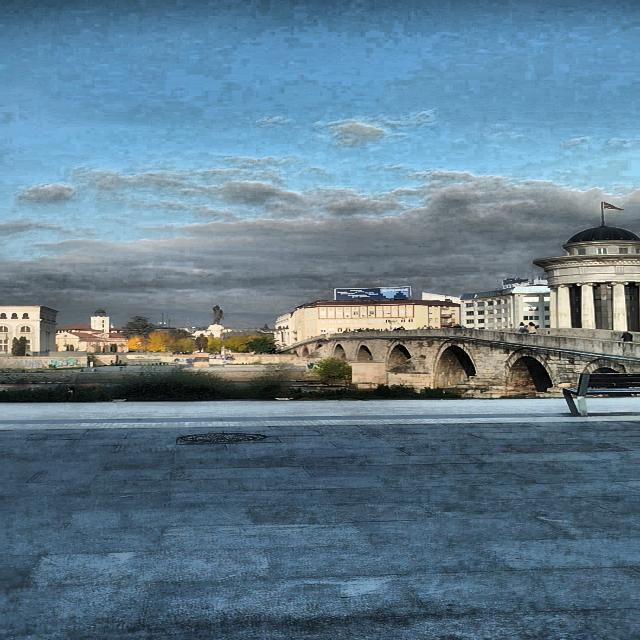Philip II of Macedonia: (210, 304, 232, 349)
stone bridge: (268, 323, 640, 405)
